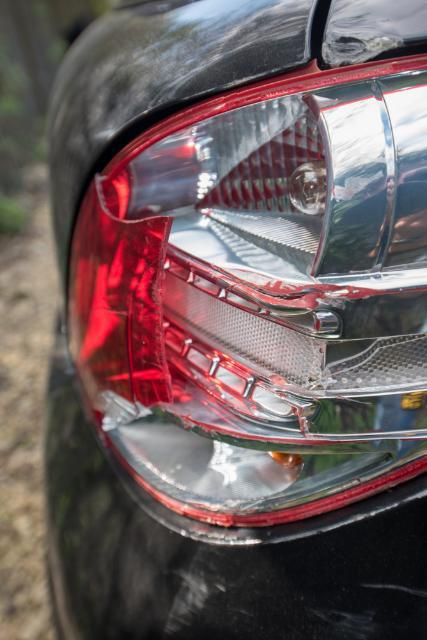dent: (324, 24, 401, 66)
lamp broken: (65, 49, 427, 527)
scratch: (304, 577, 427, 640), (167, 546, 243, 639)
